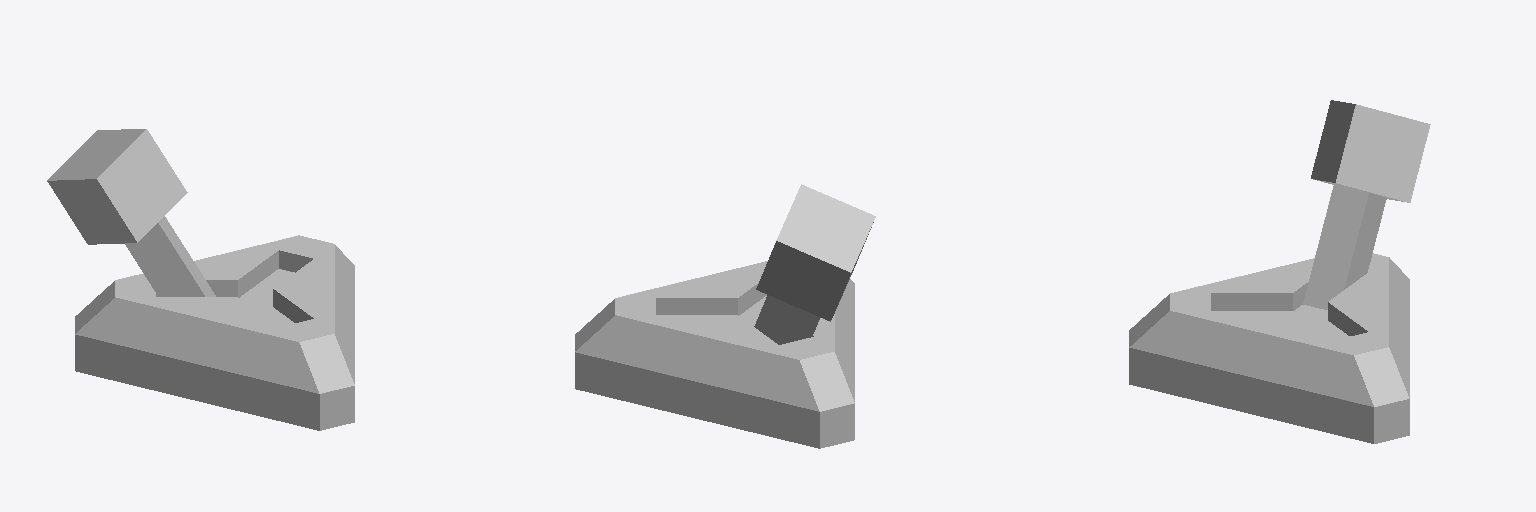
Rendered from lever_4state_2.obj.
3 views of the same model, side by side, from view 1: azimuth 30°, elevation 25°; view 2: azimuth 150°, elevation 25°; view 3: azimuth 270°, elevation 25° (orthographic).
Parts seen in each view (by area): view 1: 4-STATE_Circle.005, LEVER_Cube.049; view 2: 4-STATE_Circle.005, LEVER_Cube.049; view 3: 4-STATE_Circle.005, LEVER_Cube.049.
Part boxes in pixels (x1,y1,x2,y2): 4-STATE_Circle.005: (75,235,354,430); LEVER_Cube.049: (47,129,215,296); 4-STATE_Circle.005: (575,261,854,448); LEVER_Cube.049: (754,184,875,344); 4-STATE_Circle.005: (1129,253,1409,443); LEVER_Cube.049: (1303,100,1430,309).
Bounding box in the file's own units: 0.5175 × 0.396 × 0.4623.